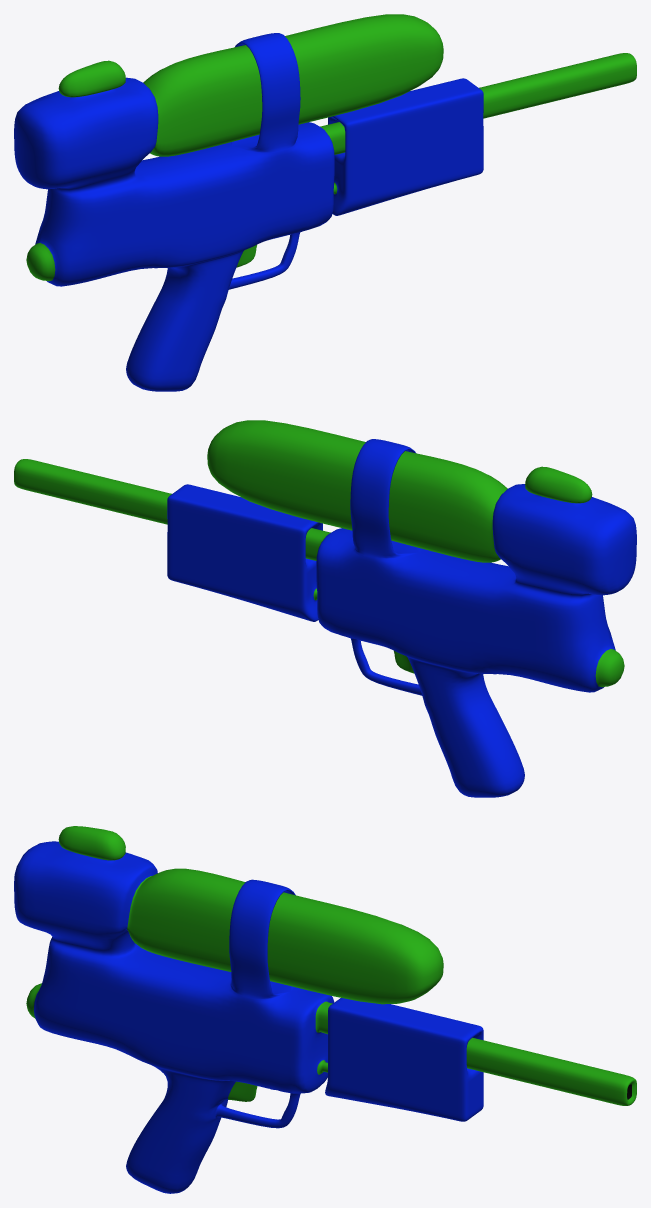
Rendered from watergun2.fbx.
The picture shows the model from 3 angles, top to bottom: view 1: azimuth 30°, elevation 25°; view 2: azimuth 150°, elevation 25°; view 3: azimuth 330°, elevation 25°; orthographic projection.
Visible parts, largest first — view 1: pCube1; view 2: pCube1; view 3: pCube1.
Boxes of the visible parts, bbox=[...] form: pCube1: bbox=[14, 14, 636, 391]; pCube1: bbox=[14, 420, 636, 797]; pCube1: bbox=[14, 826, 636, 1193].
Bounding box in the file's own units: 4.98 × 2.68 × 0.6007.
1 material, 1 textured.
